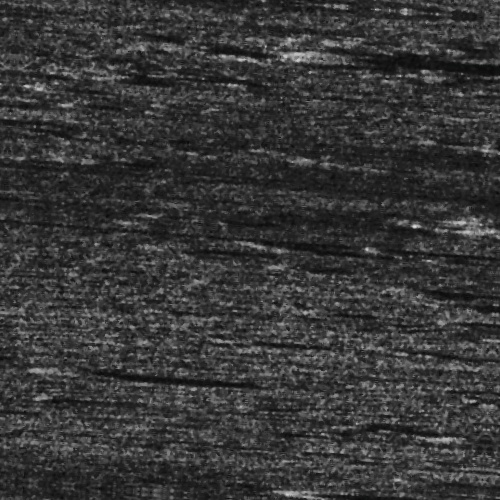object: (116, 29, 500, 68), (139, 38, 336, 77), (440, 206, 500, 217), (277, 482, 350, 491), (125, 248, 198, 255), (190, 336, 263, 343), (434, 414, 500, 421), (439, 299, 480, 304), (65, 381, 106, 384)
shadow: (313, 29, 500, 68), (238, 38, 356, 77), (313, 482, 500, 491), (226, 336, 313, 343), (86, 381, 286, 384), (162, 248, 243, 255), (459, 299, 500, 304), (471, 414, 500, 421)
